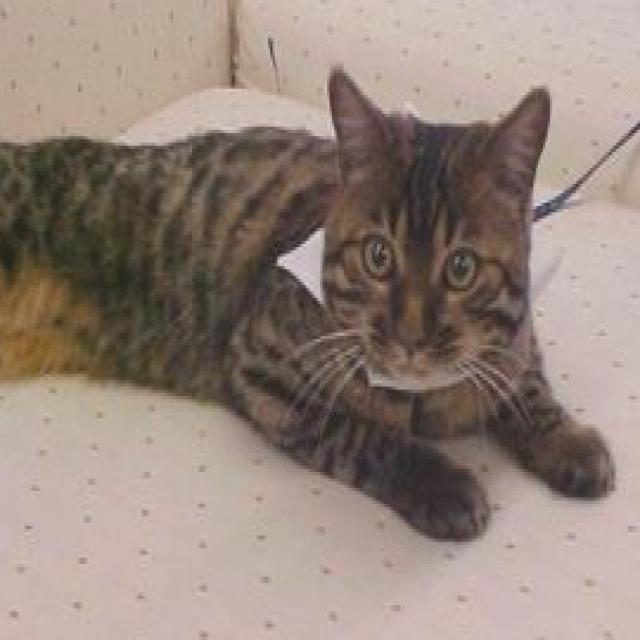Bengal: (0, 57, 621, 548)
